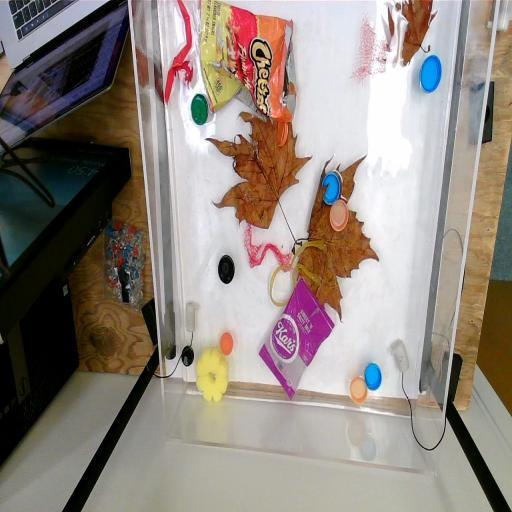Bottle Cap: (418, 52, 444, 97), (327, 197, 351, 236), (320, 168, 342, 208), (214, 251, 237, 289), (188, 90, 210, 128), (348, 371, 370, 408), (362, 357, 384, 394), (218, 328, 234, 360), (275, 118, 289, 148), (180, 343, 196, 367)
Leaf: (294, 156, 380, 322), (205, 110, 303, 244), (381, 0, 437, 63)
Netting: (347, 12, 389, 89), (242, 221, 294, 277)
Plastic Bag: (198, 0, 298, 126), (258, 276, 336, 402)
Plastic Strand: (270, 236, 328, 307), (159, 0, 193, 108)
Sponge: (194, 344, 232, 406)
